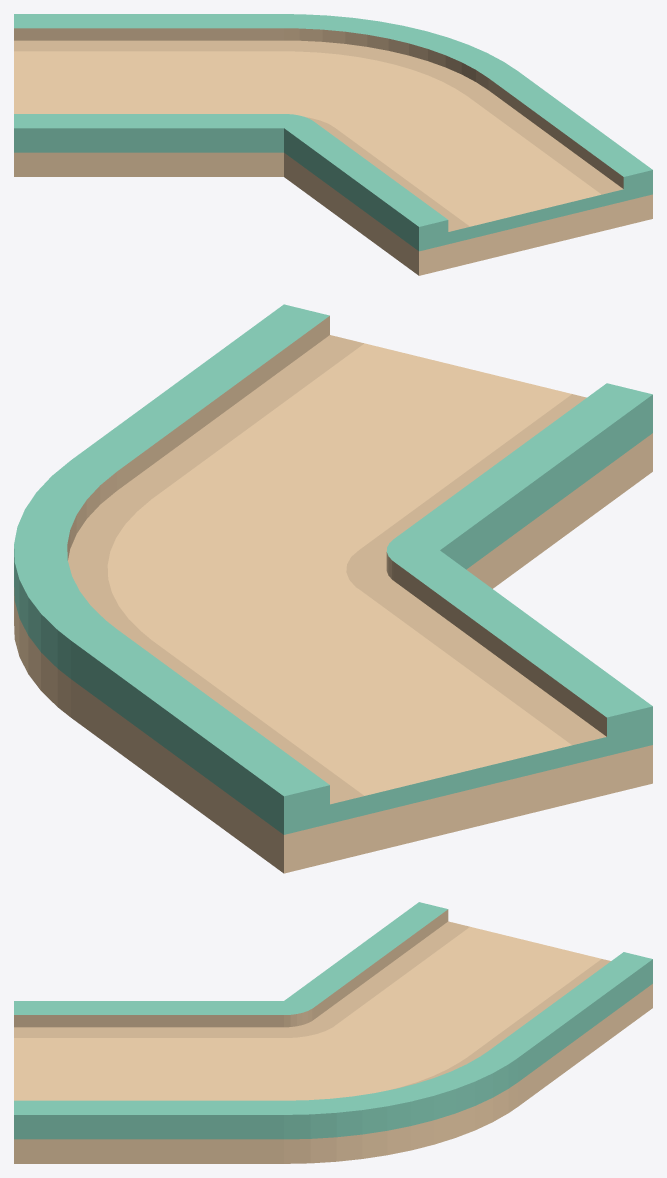
File: tile_hexCorner.fbx
3 renders of one model, top to bottom at view 1: azimuth 30°, elevation 25°; view 2: azimuth 150°, elevation 25°; view 3: azimuth 270°, elevation 25°, orthographic. The views are drawn at different scales.
Visible parts, largest first — view 1: tile_straight.001; view 2: tile_straight.001; view 3: tile_straight.001.
Part boxes in pixels (x1,y1,x2,y2): tile_straight.001: (14,14,652,275); tile_straight.001: (14,304,652,873); tile_straight.001: (14,902,652,1163).
Size of the model in its own units: 18660 by 2000 by 23660.
